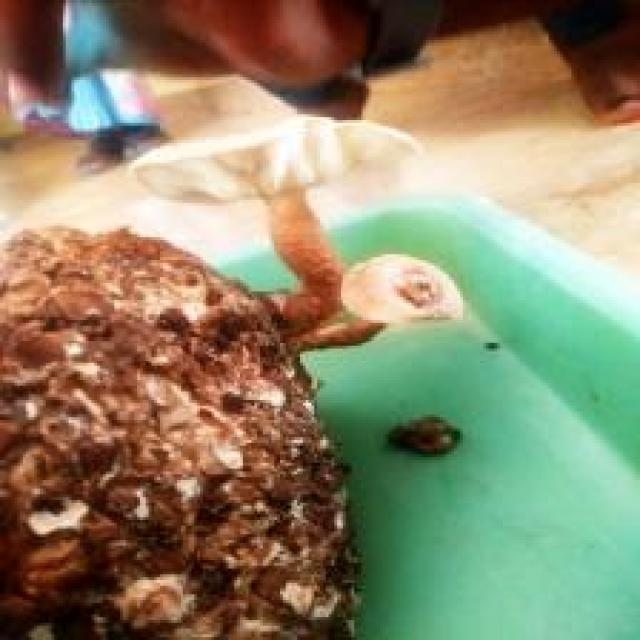chanterelle: (0, 166, 463, 637)
